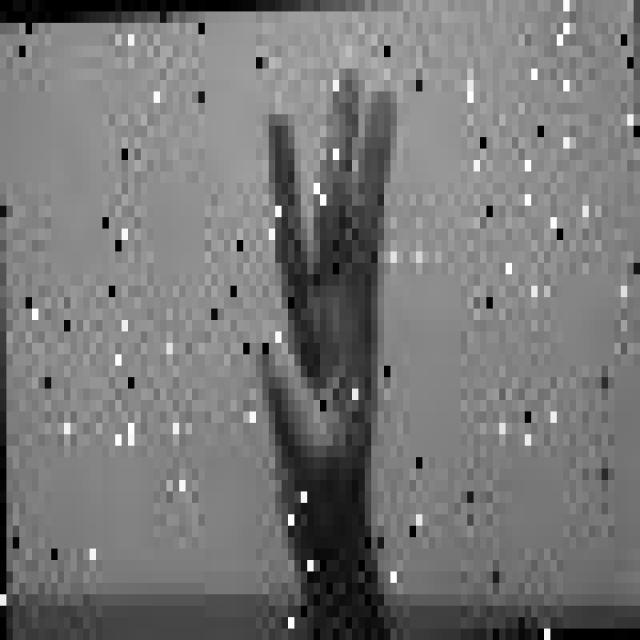W: (234, 34, 406, 560)
